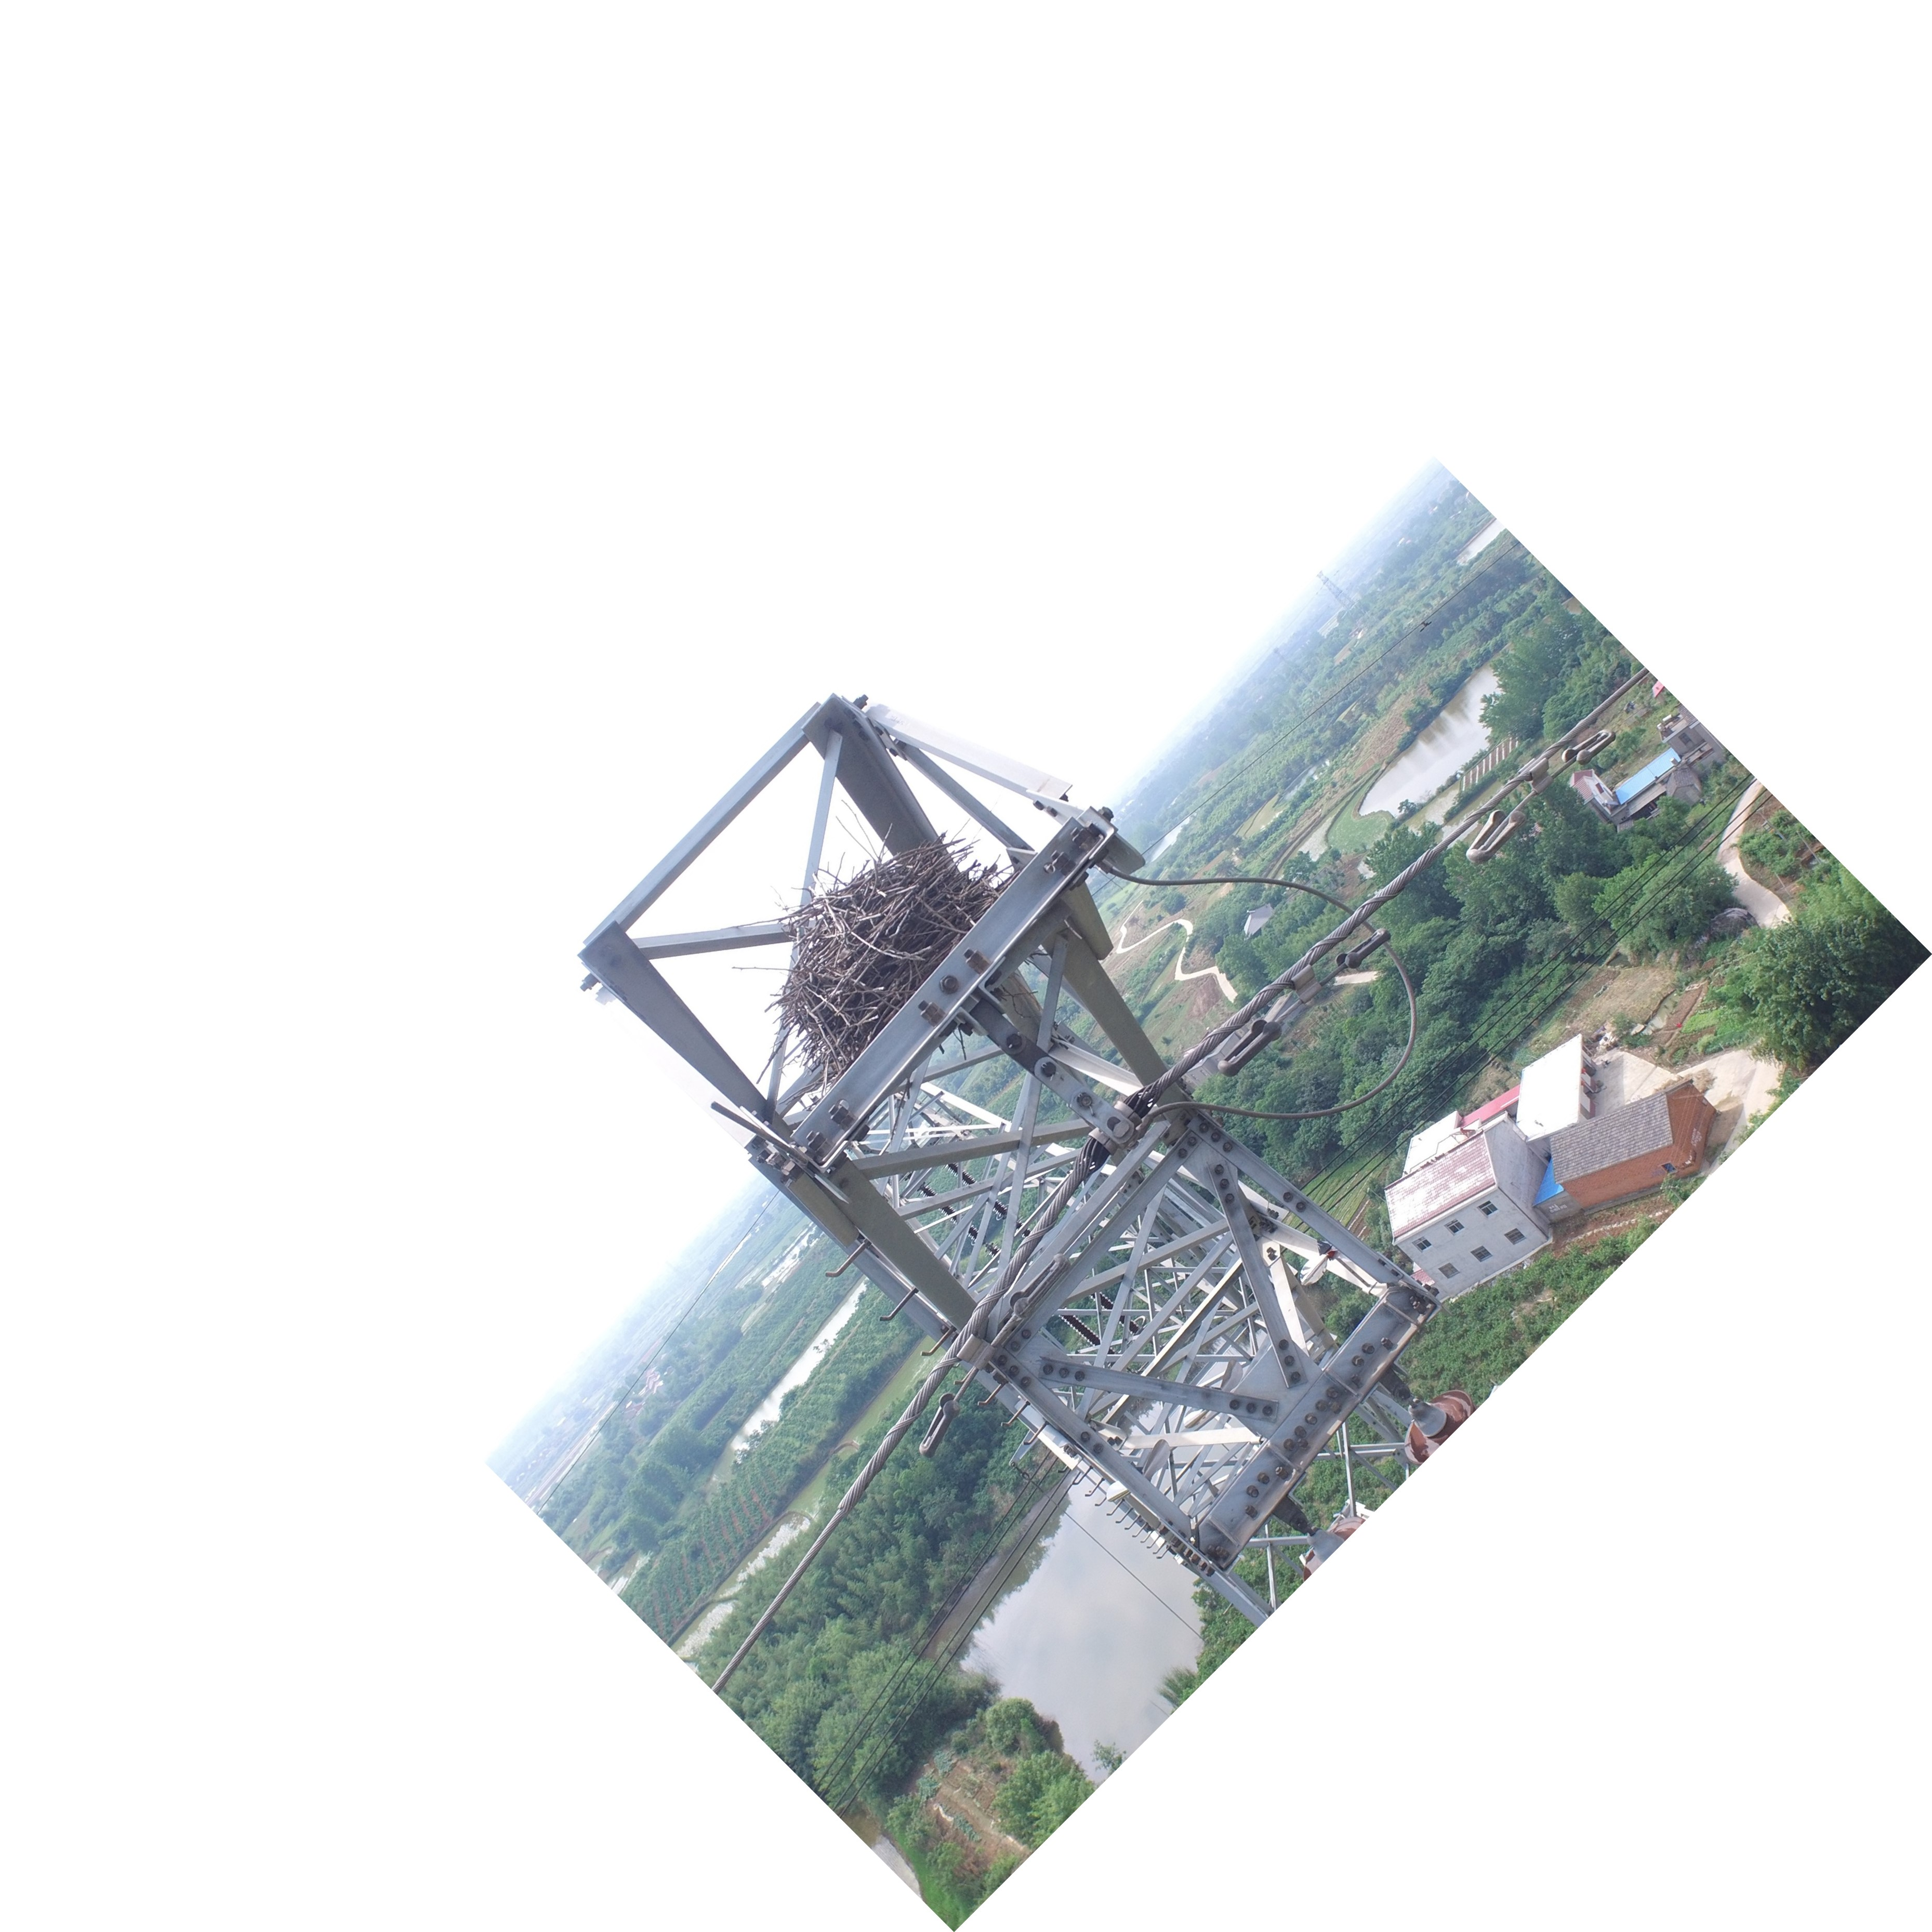niaowo: (702, 830, 1005, 1058)
